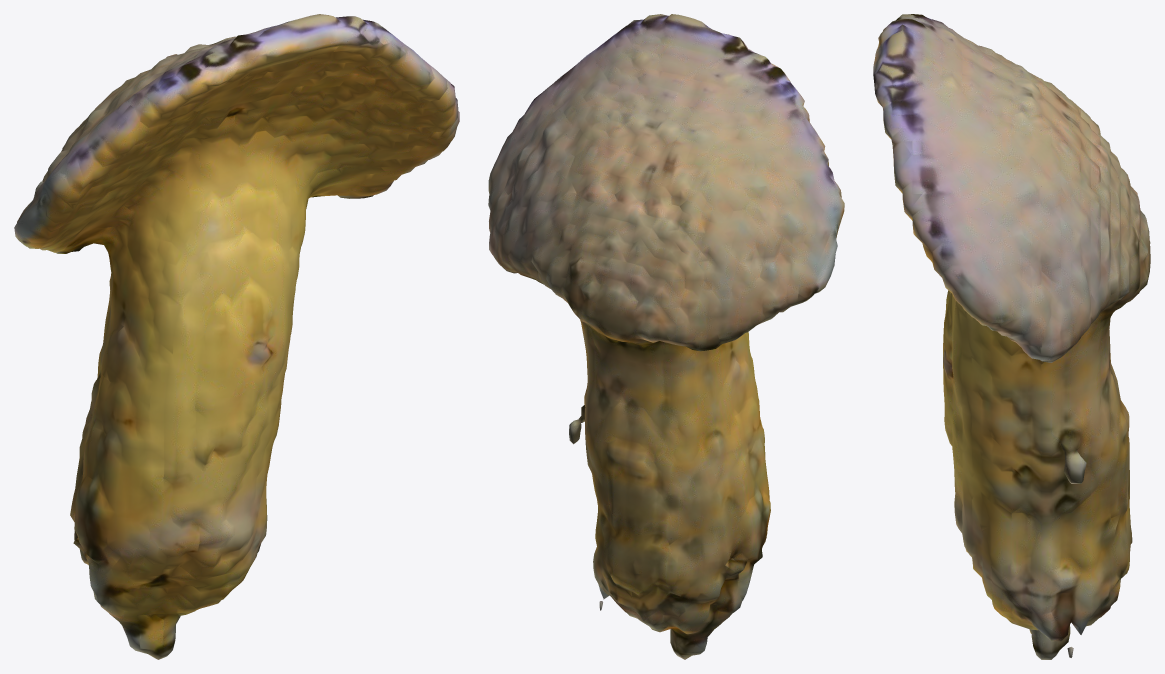
The picture shows the model from 3 angles, left to right: view 1: azimuth 30°, elevation 25°; view 2: azimuth 150°, elevation 25°; view 3: azimuth 270°, elevation 25°; orthographic projection. The views are drawn at different scales.
Size of the model in its own units: 0.6294 by 0.9965 by 0.3828.
1 material, 1 textured.
